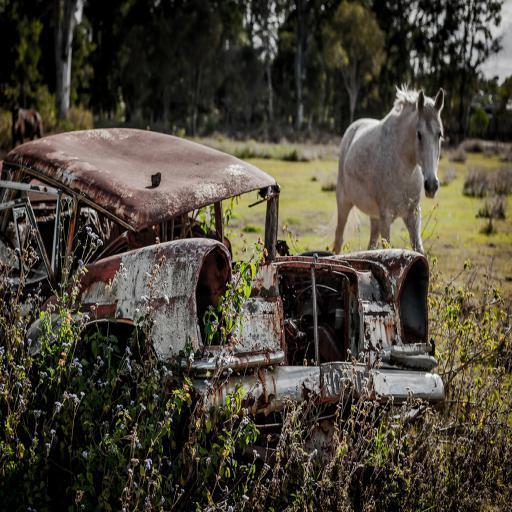horse: (324, 76, 444, 253)
